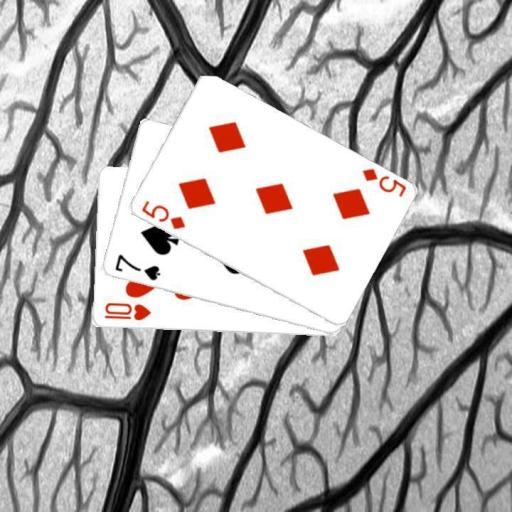card-corner: (358, 165, 408, 198), (138, 197, 186, 231), (111, 251, 161, 282), (101, 300, 152, 323)
